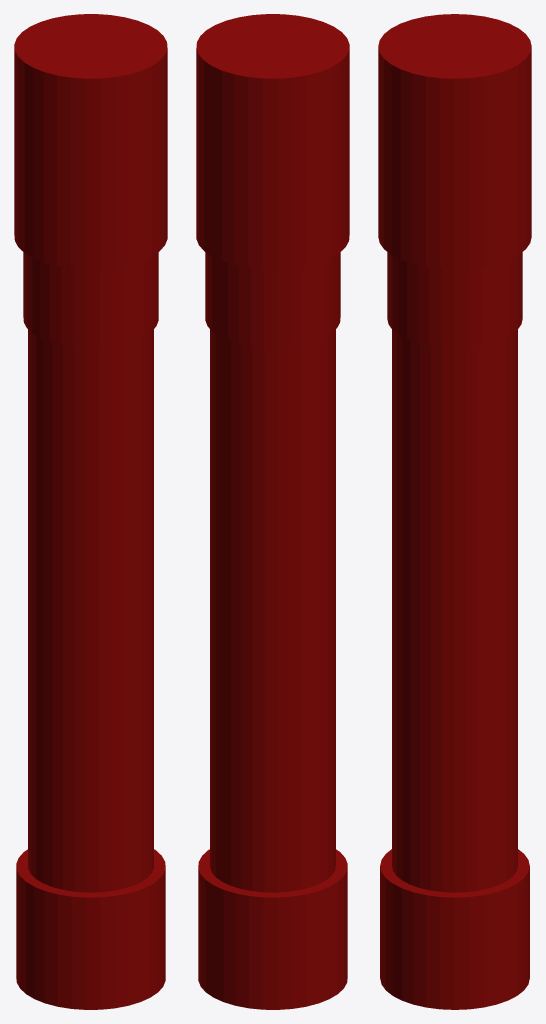
The model's file is Flare.fbx.
3 renders of one model, left to right at view 1: azimuth 30°, elevation 25°; view 2: azimuth 150°, elevation 25°; view 3: azimuth 270°, elevation 25°, orthographic.
Visible parts, largest first — view 1: Flare, Cover; view 2: Flare, Cover; view 3: Flare, Cover.
Part boxes in pixels (x1,y1,x2,y2): Flare: (16,252,165,1009); Cover: (14,14,167,269); Flare: (198,252,347,1009); Cover: (196,14,349,269); Flare: (380,252,529,1009); Cover: (378,14,531,269).
Bounding box in the file's own units: 72.12 × 483 × 72.12.
